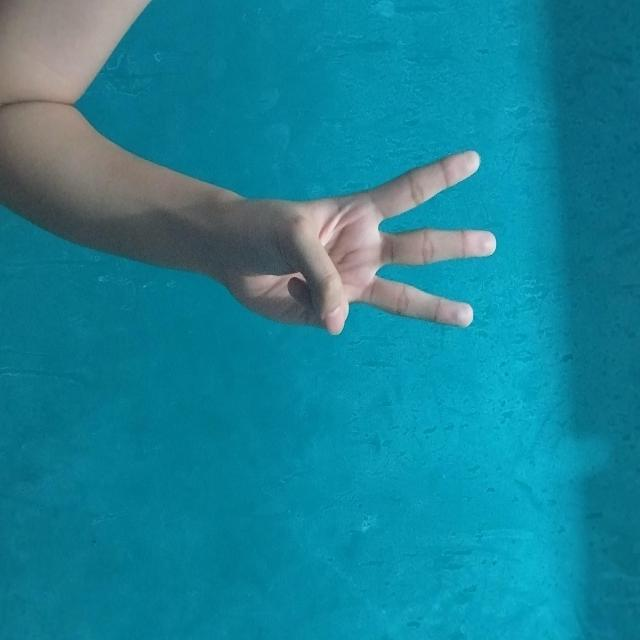W: (146, 144, 337, 411)
